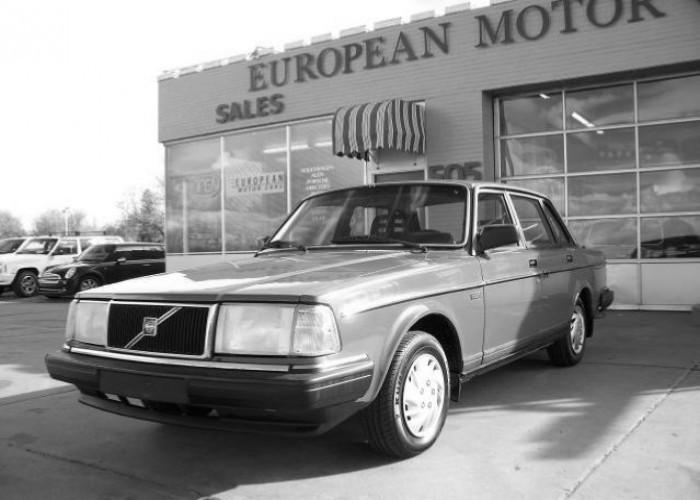car: (40, 177, 620, 460)
